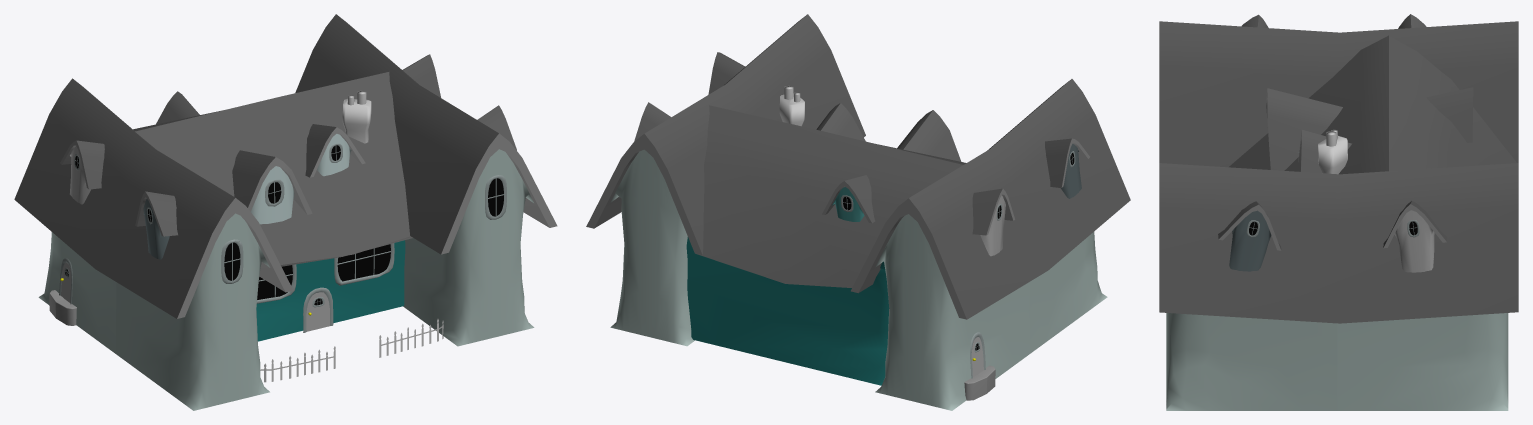
File: House3.fbx
3 views of the same model, side by side, from view 1: azimuth 30°, elevation 25°; view 2: azimuth 150°, elevation 25°; view 3: azimuth 270°, elevation 25° (orthographic). The views are drawn at different scales.
Parts seen in each view (by area): view 1: polySurface77; view 2: polySurface77; view 3: polySurface77.
Boxes of the visible parts, <box> form: polySurface77: <box>14,14,557,410</box>; polySurface77: <box>586,14,1130,410</box>; polySurface77: <box>1159,14,1518,410</box>.
Size of the model in its own units: 35.39 by 18.66 by 26.26.
